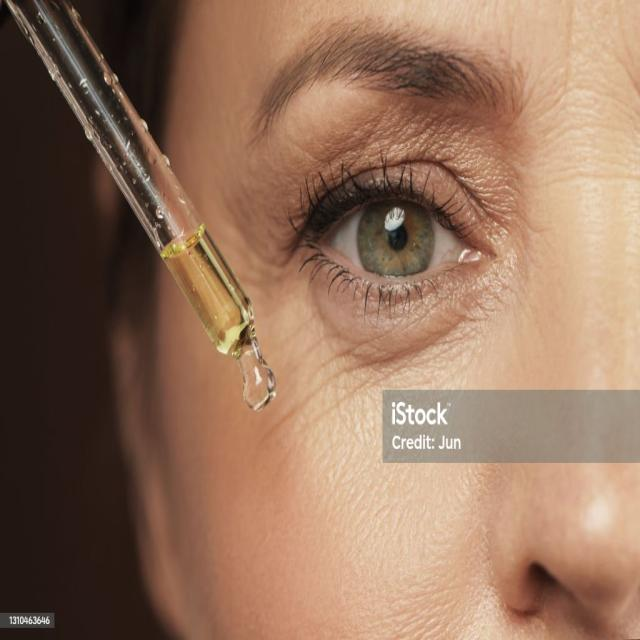Dry-Skin: (162, 336, 478, 624)
